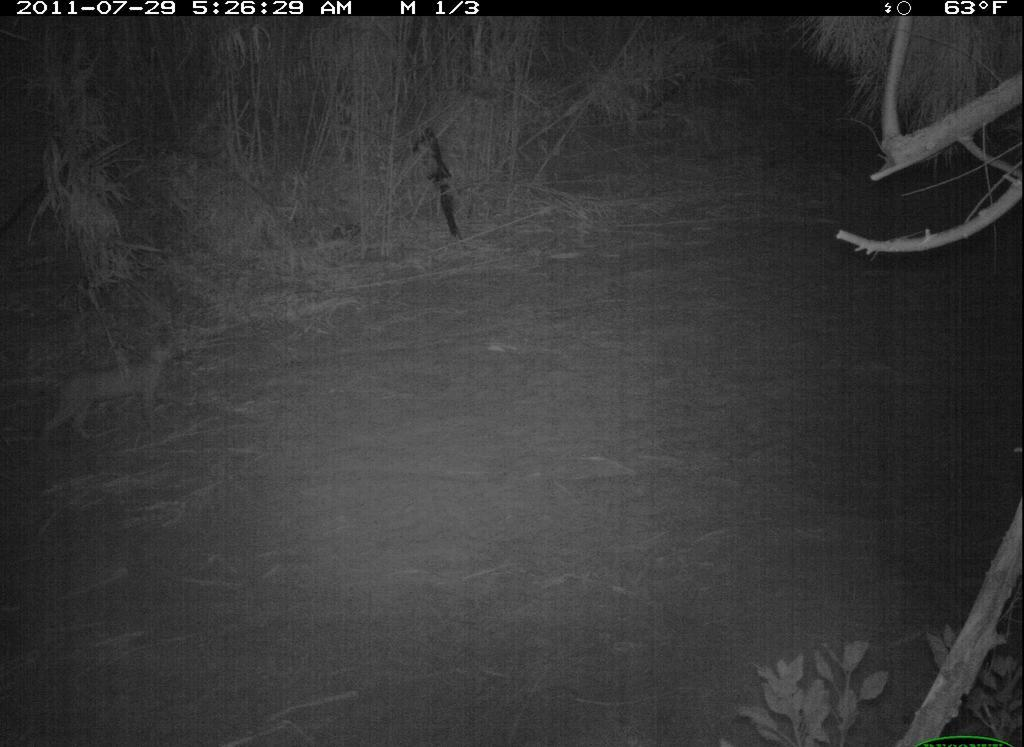bobcat: (36, 332, 190, 450)
